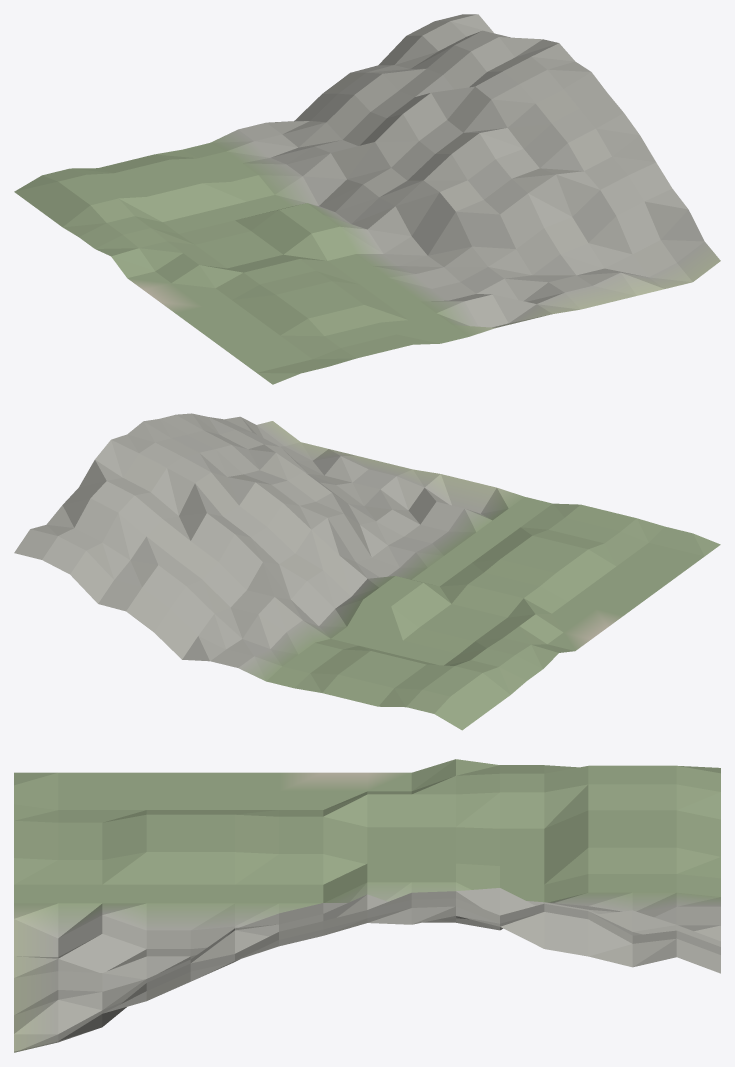
3 views of the same model, one above another, from view 1: azimuth 30°, elevation 25°; view 2: azimuth 150°, elevation 25°; view 3: azimuth 270°, elevation 25° (orthographic). The views are drawn at different scales.
Size of the model in its own units: 32 by 8.59 by 32.
